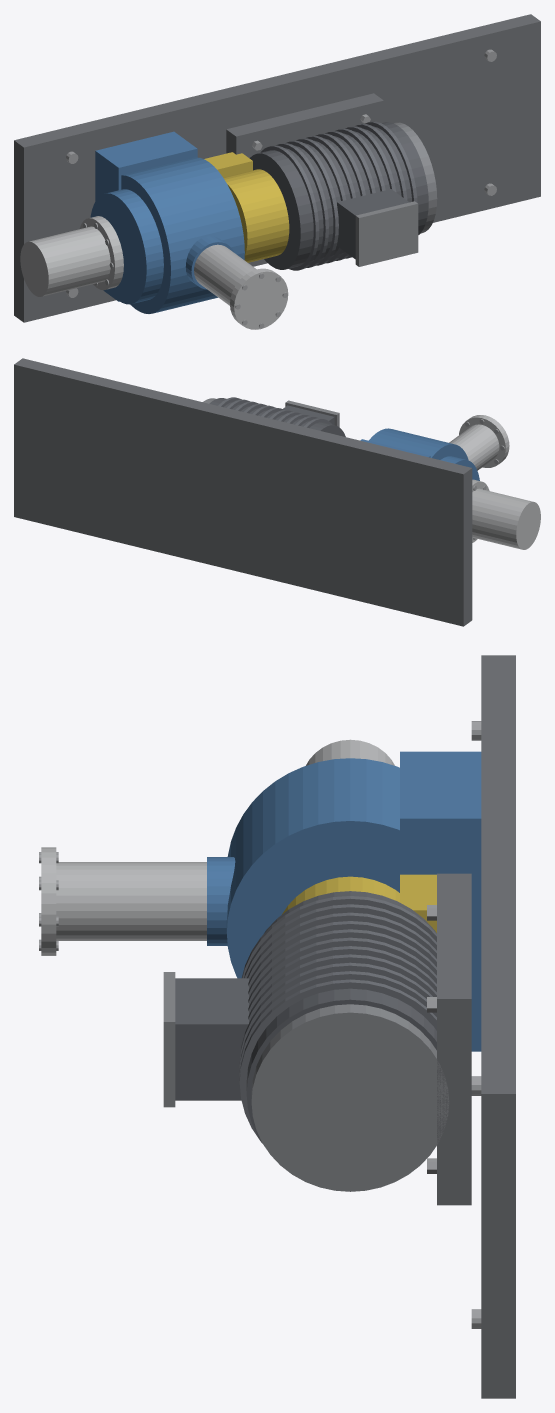
Rendered from pump_motor_assembly (2).glb.
The picture shows the model from 3 angles, top to bottom: view 1: azimuth 30°, elevation 25°; view 2: azimuth 150°, elevation 25°; view 3: azimuth 270°, elevation 25°; orthographic projection. The views are drawn at different scales.
Parts seen in each view (by area): view 1: base_plate, pump_volute, motor_body, pump_front_bulge, suction_pipe, motor_feet, coupling_guard, pump_foot, terminal_box_lid, discharge_flange, discharge_pipe, terminal_box (+15 smaller); view 2: base_plate, suction_pipe, pump_volute, discharge_pipe, discharge_flange, motor_body, terminal_box_lid; view 3: motor_rear_cap, base_plate, pump_volute, pump_foot, discharge_pipe, motor_feet, terminal_box, motor_body, motor_fin_10, discharge_neck, motor_fin_0, terminal_box_lid (+13 smaller).
Boxes of the visible parts, <box> form: base_plate: <box>14,14,540,322</box>; pump_volute: <box>121,157,244,313</box>; motor_body: <box>249,122,428,269</box>; pump_front_bulge: <box>90,189,163,304</box>; suction_pipe: <box>20,226,110,296</box>; motor_feet: <box>226,93,383,158</box>; coupling_guard: <box>223,169,289,262</box>; pump_foot: <box>95,131,197,301</box>; terminal_box_lid: <box>355,201,418,266</box>; discharge_flange: <box>230,268,288,329</box>; discharge_pipe: <box>194,244,256,305</box>; terminal_box: <box>337,189,409,259</box>; base_plate: <box>14,358,472,626</box>; suction_pipe: <box>472,488,540,549</box>; pump_volute: <box>369,428,468,460</box>; discharge_pipe: <box>449,424,499,470</box>; discharge_flange: <box>459,415,509,467</box>; motor_body: <box>209,398,345,436</box>; terminal_box_lid: <box>285,400,339,427</box>; motor_rear_cap: <box>251,1004,449,1191</box>; base_plate: <box>481,655,515,1398</box>; pump_volute: <box>226,758,399,978</box>; pump_foot: <box>400,751,481,1051</box>; discharge_pipe: <box>56,862,206,940</box>; motor_feet: <box>437,873,471,1205</box>; terminal_box: <box>175,978,248,1100</box>; motor_body: <box>246,891,436,1146</box>; motor_fin_10: <box>239,979,436,1143</box>; discharge_neck: <box>207,857,235,945</box>; motor_fin_0: <box>242,896,436,978</box>; terminal_box_lid: <box>163,972,175,1107</box>.
Size of the model in its own units: 11.05 by 3.4 by 4.83.
